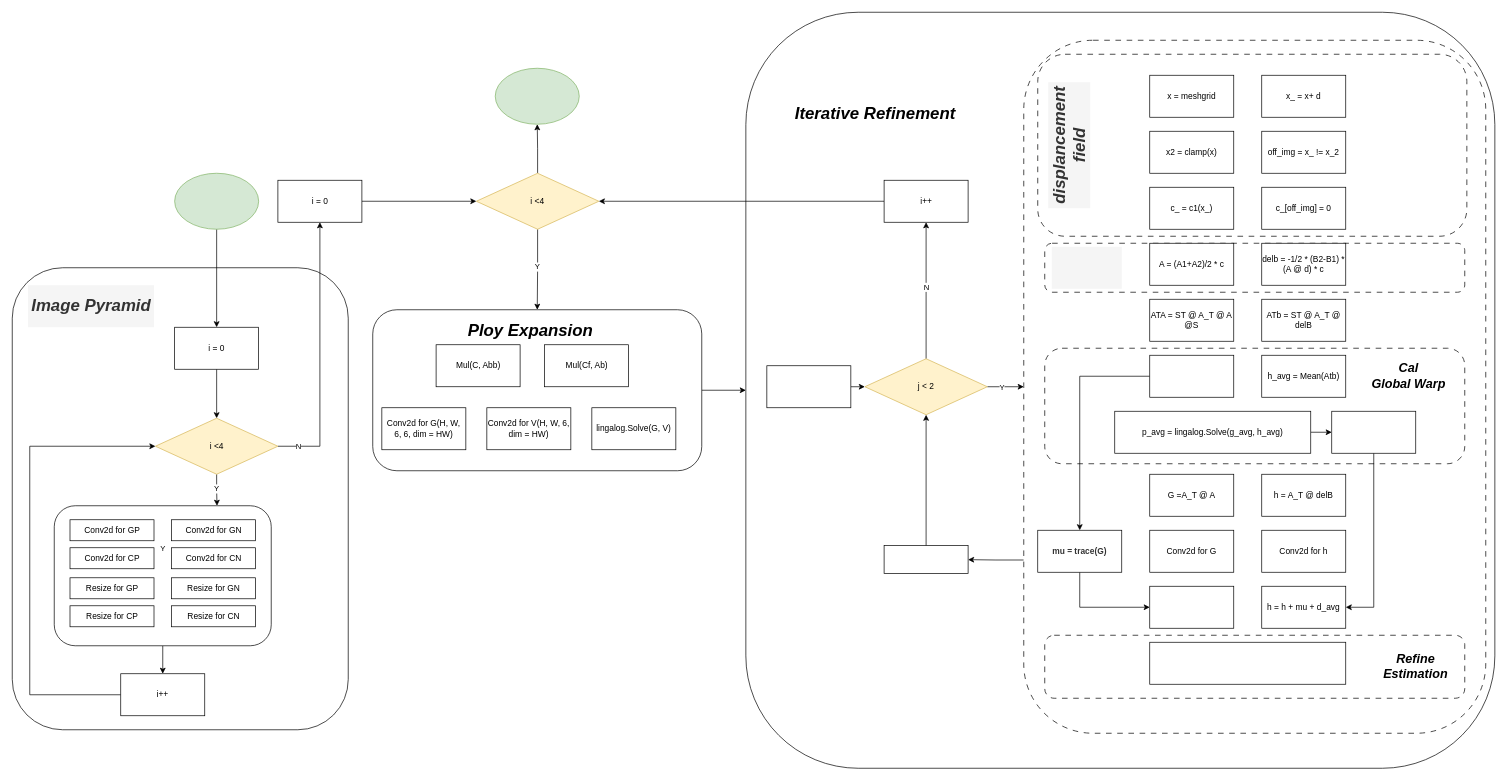
Image size: 1507x781. Some labels were removed from this diagram. The box of each missing label's shape, as (x1, y1, x2, y2) in pixels:
Add Certitanty: (1051, 246, 1121, 288)
d = lingalog.Solve(G, V): (1149, 642, 1346, 684)
d_avg = L(Matmul(S, pvg)): (1331, 411, 1416, 453)
end: (495, 68, 579, 124)
G = G + mu + S: (1149, 586, 1234, 628)
g_avg = Mean(ATA): (1149, 355, 1234, 397)
j = 0: (766, 365, 851, 408)
j++: (883, 545, 968, 574)
start: (174, 173, 259, 229)
